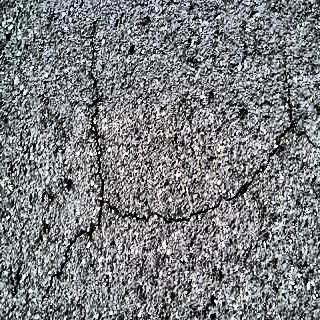crack: (41, 26, 301, 304)
